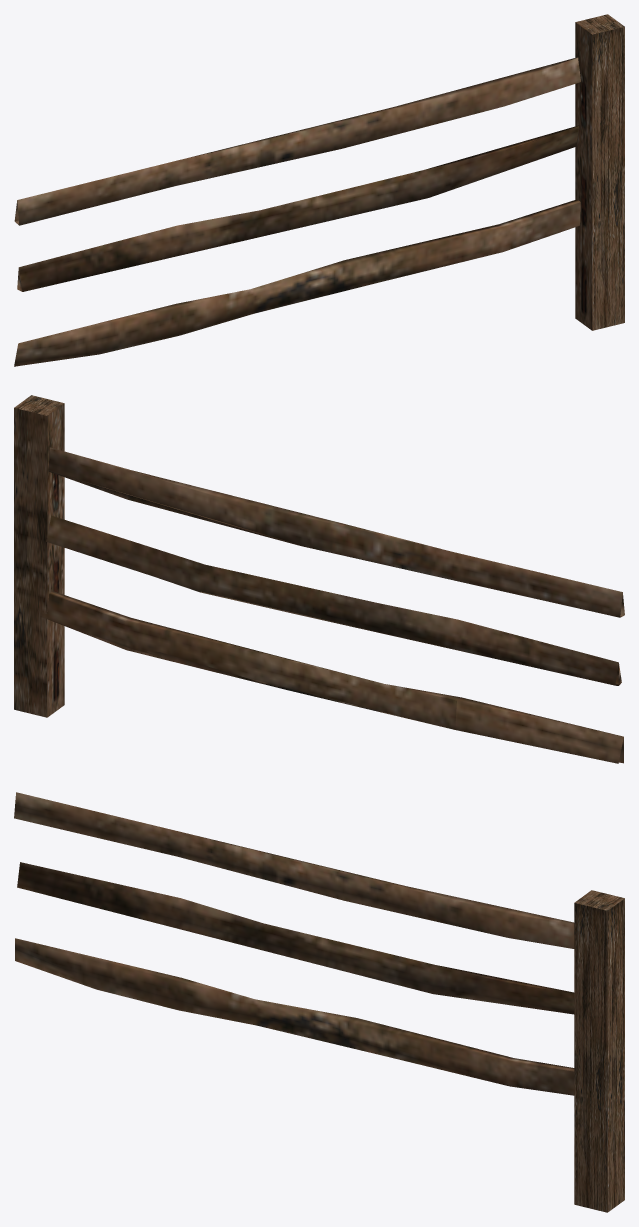
Rendered from Fence.fbx.
The picture shows the model from 3 angles, top to bottom: view 1: azimuth 30°, elevation 25°; view 2: azimuth 150°, elevation 25°; view 3: azimuth 330°, elevation 25°; orthographic projection.
Visible parts, largest first — view 1: Fence1, Fence; view 2: Fence1, Fence; view 3: Fence1, Fence.
Part boxes in pixels (x1,y1,x2,y2): Fence1: (14, 57, 580, 366); Fence: (575, 14, 624, 330); Fence1: (41, 447, 624, 763); Fence: (14, 395, 64, 717); Fence1: (14, 792, 574, 1095); Fence: (574, 890, 624, 1212).
Bounding box in the file's own units: 24.6 × 11.68 × 1.34.
Materials: 1 (1 with a texture image).
